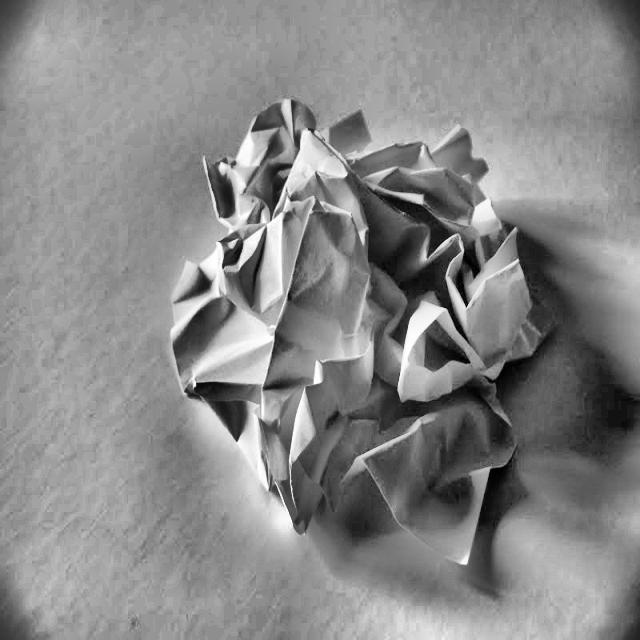Paper: (160, 87, 564, 593)
